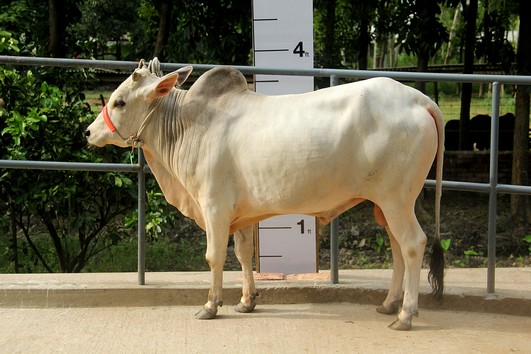cow: (78, 52, 452, 332)
